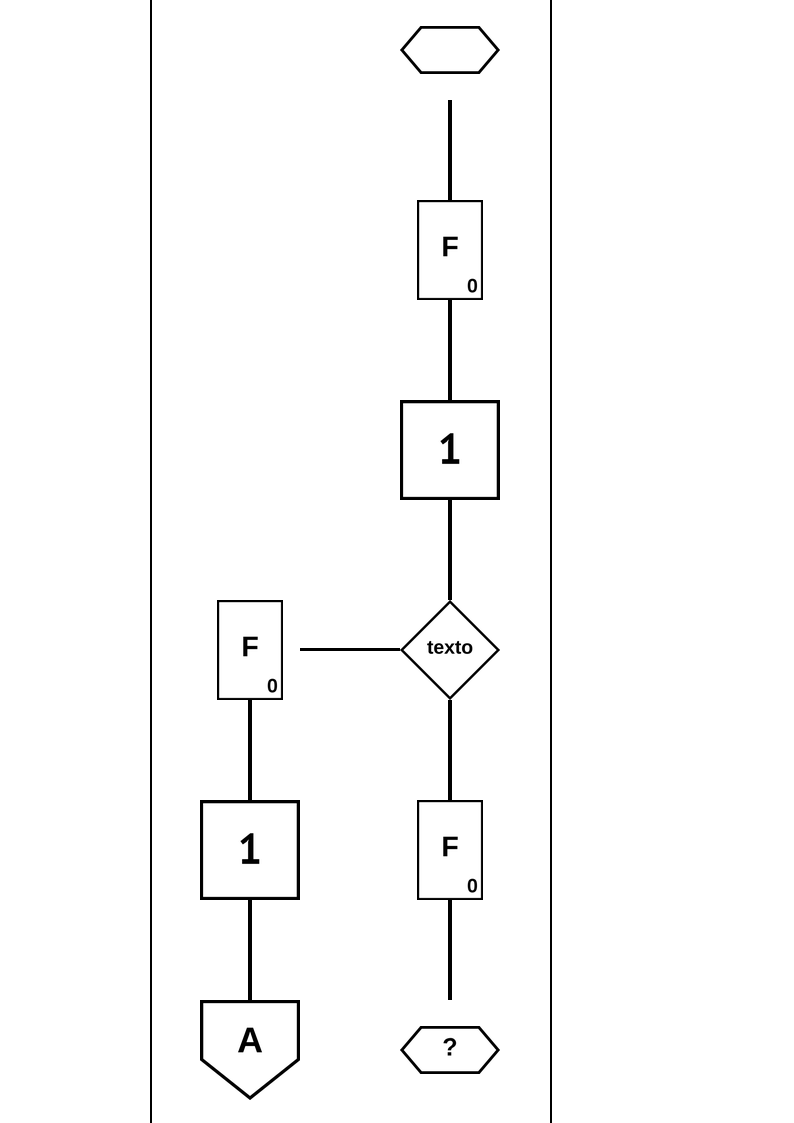conector_comienzoCorte: (200, 1000, 300, 1100)
control: (400, 400, 500, 500), (200, 800, 300, 900)
decision: (400, 600, 500, 700)
documento: (417, 200, 483, 300), (417, 800, 483, 900), (217, 600, 283, 700)
proceso: (400, 26, 500, 74)
procesoNoRelevado: (400, 1026, 500, 1074)
trasladoDeInformacion_horizontal: (300, 628, 400, 671)
trasladoDeInformacion_vertical: (428, 100, 472, 200), (428, 300, 472, 400), (428, 500, 472, 600), (428, 700, 472, 800), (428, 900, 472, 1000), (228, 700, 272, 800), (228, 900, 272, 1000)
